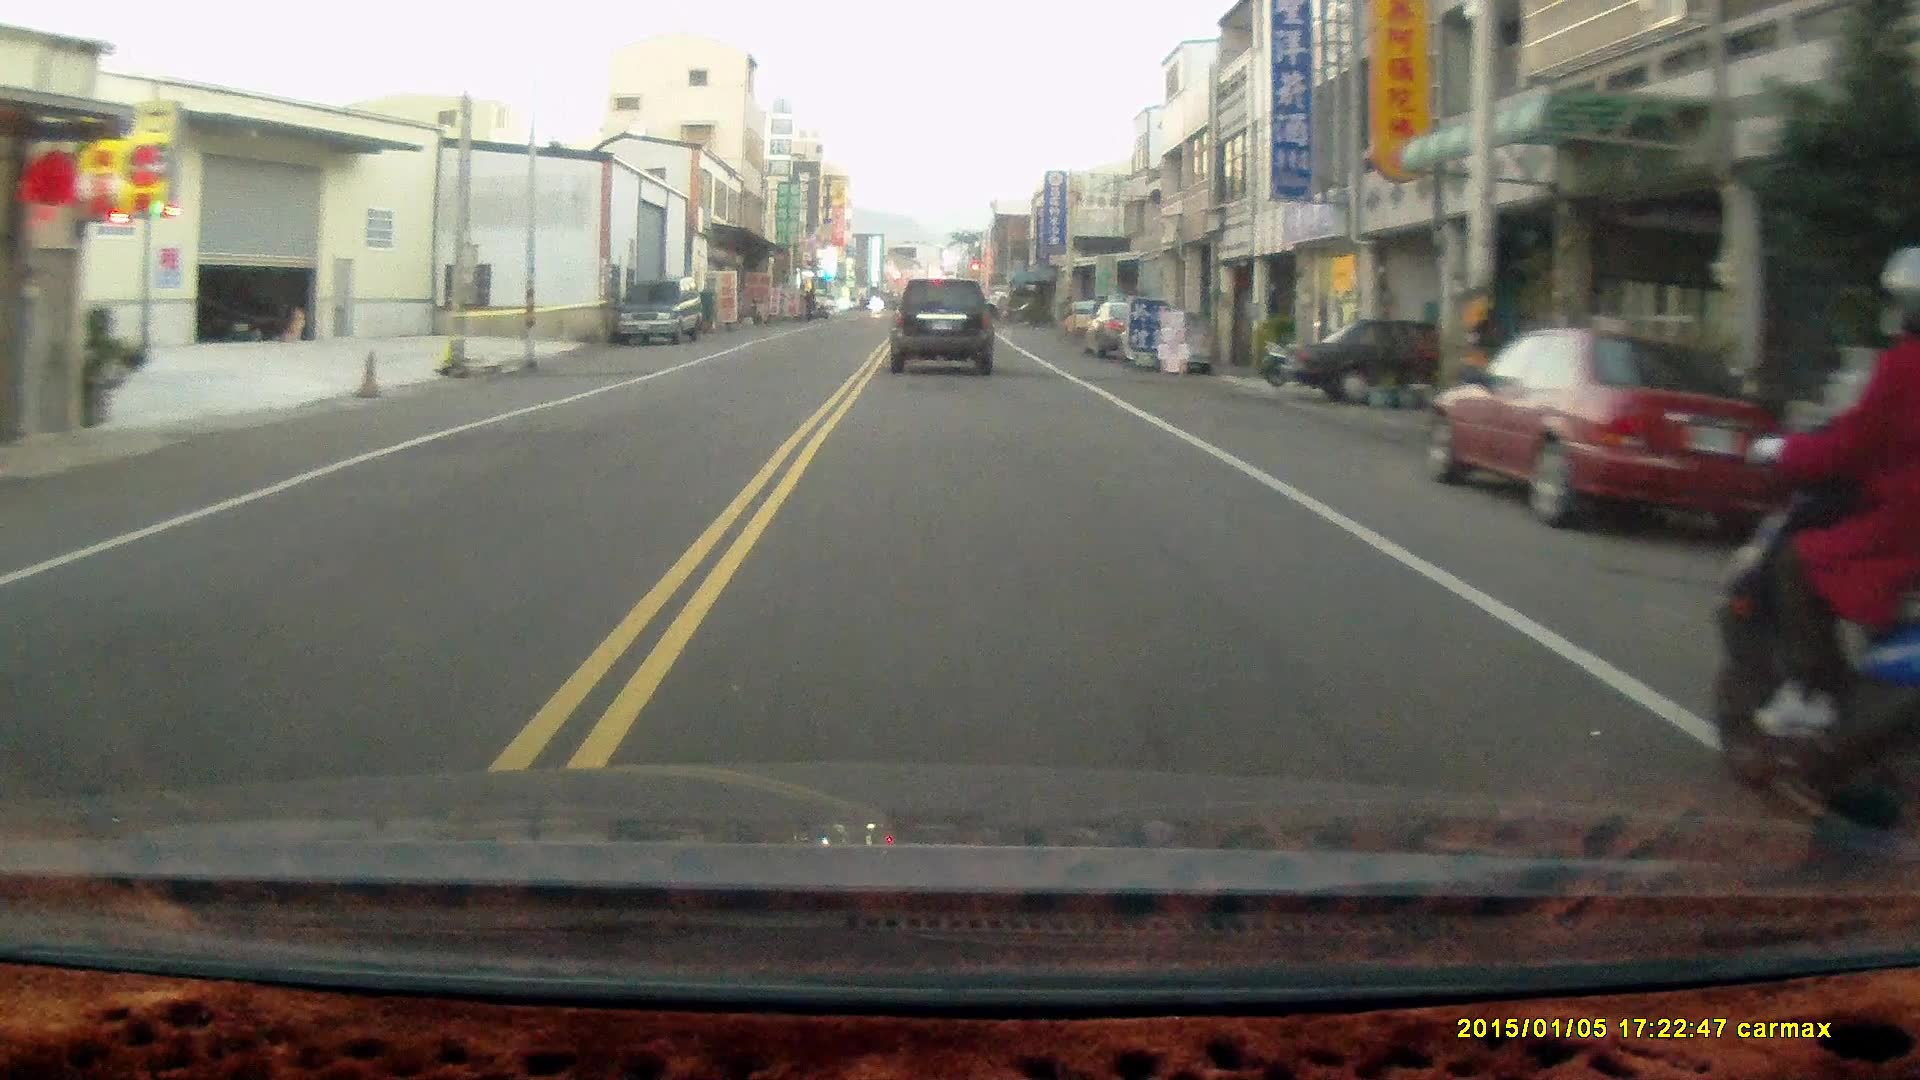rider: (1711, 249, 1913, 834)
vehicle: (1427, 326, 1790, 541), (1265, 309, 1525, 396), (889, 277, 999, 379), (609, 279, 709, 349)
